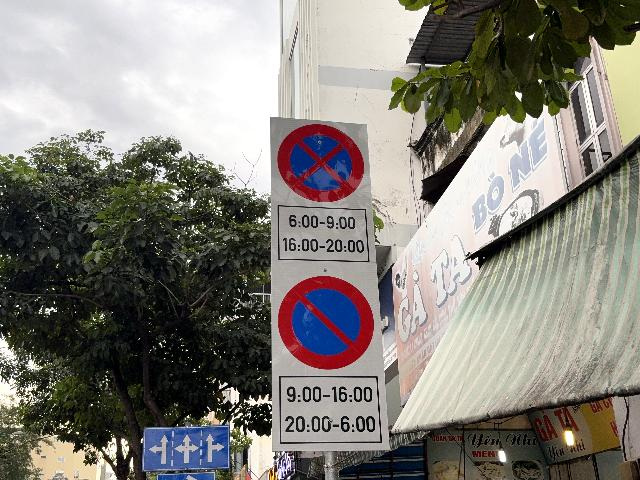cam-do-xe: (278, 276, 374, 370)
cam-dung-va-do-xe: (277, 124, 364, 202)
